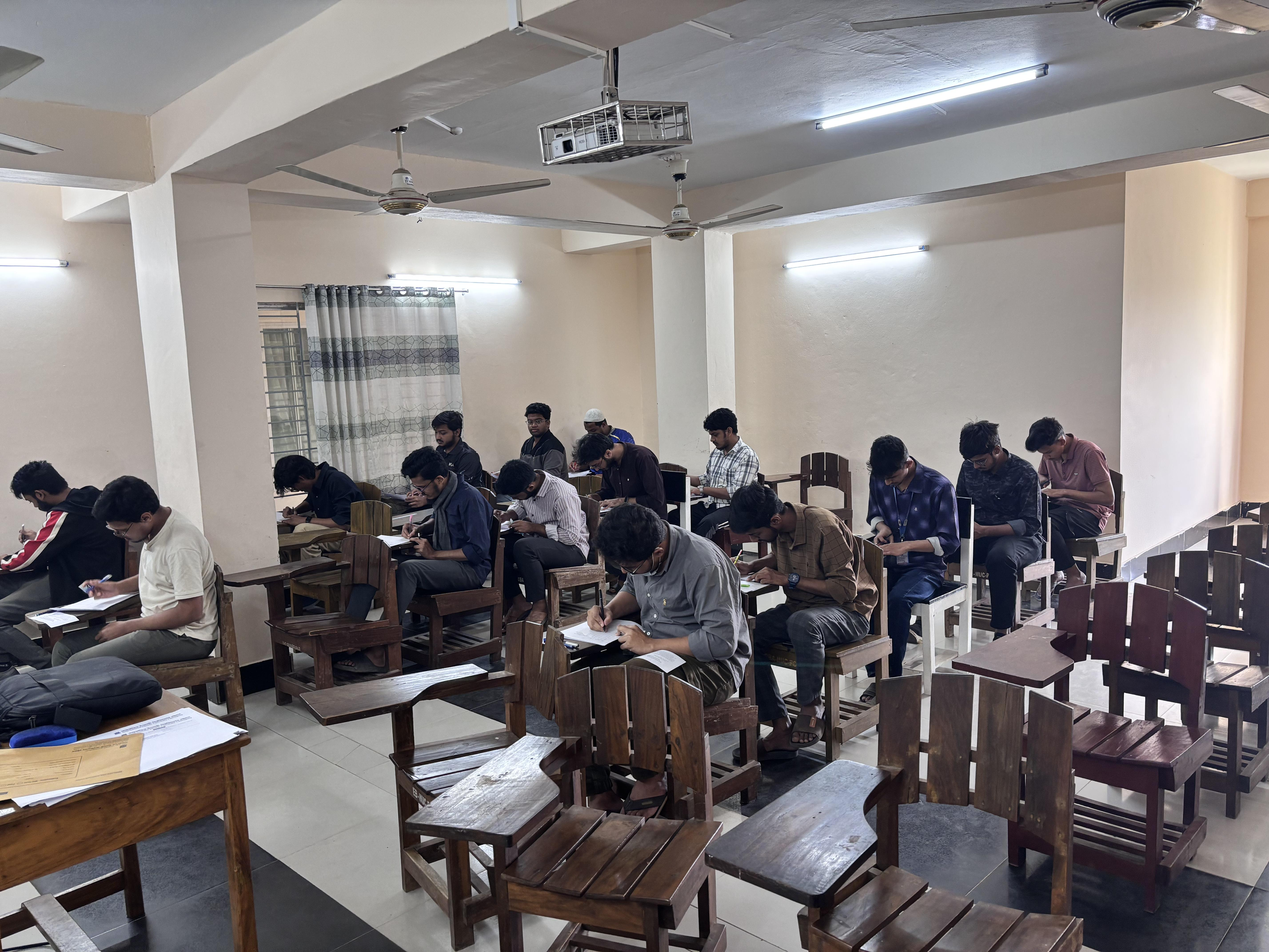no_cheating: (84, 477, 223, 657), (573, 502, 709, 660), (720, 480, 835, 630), (855, 434, 959, 589), (0, 451, 98, 588), (390, 442, 492, 573), (492, 457, 587, 574), (948, 417, 1036, 536), (572, 432, 674, 527), (1021, 413, 1100, 520), (685, 406, 765, 510), (271, 448, 359, 536), (418, 404, 484, 486)
suspicious_moving: (510, 396, 571, 488)
